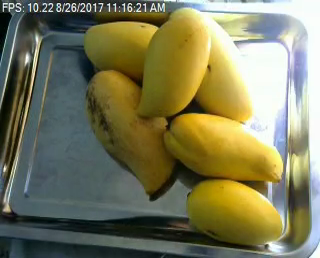Mango: (86, 71, 175, 193), (161, 113, 283, 181), (139, 8, 210, 115), (193, 16, 256, 122), (185, 178, 282, 243), (82, 21, 172, 84)
